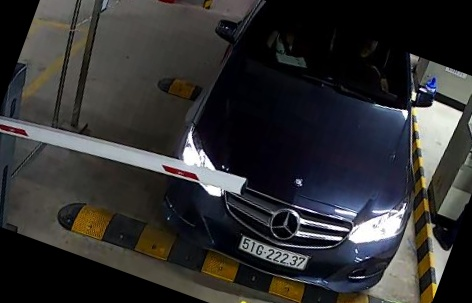plate: (238, 230, 314, 277)
